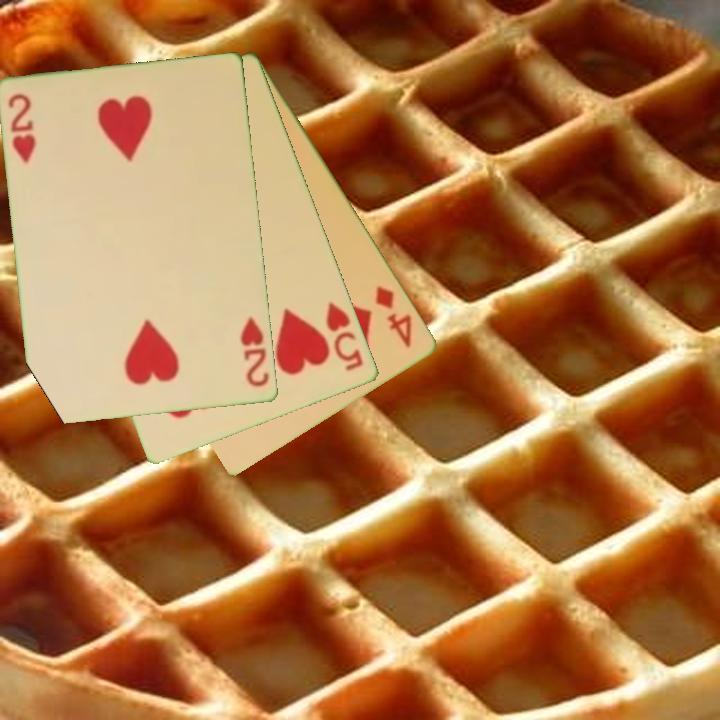2h: (237, 313, 272, 390), (5, 90, 39, 167)
4d: (372, 283, 416, 351)
5h: (323, 298, 367, 375)
